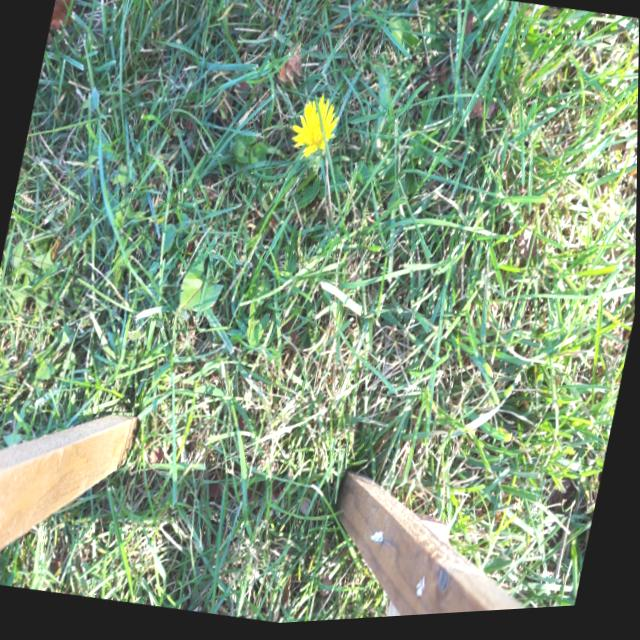base: (281, 180, 302, 210)
flower: (287, 96, 344, 166)
